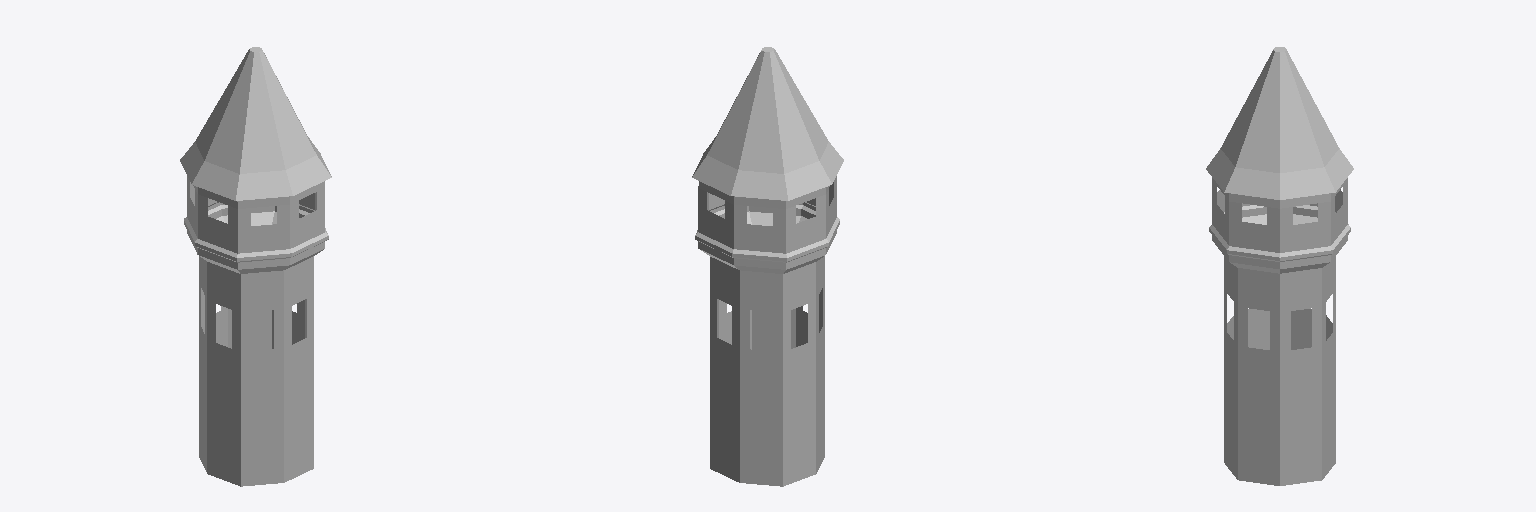
File: tower.obj
The picture shows the model from 3 angles: view 1: azimuth 30°, elevation 25°; view 2: azimuth 150°, elevation 25°; view 3: azimuth 270°, elevation 25°; orthographic projection.
Parts seen in each view (by area): view 1: Cube; view 2: Cube; view 3: Cube.
Part boxes in pixels (bbox=[...]): Cube: bbox=[180, 47, 331, 486]; Cube: bbox=[692, 47, 843, 486]; Cube: bbox=[1206, 47, 1353, 485].
Size of the model in its own units: 10.56 by 32.34 by 10.56.